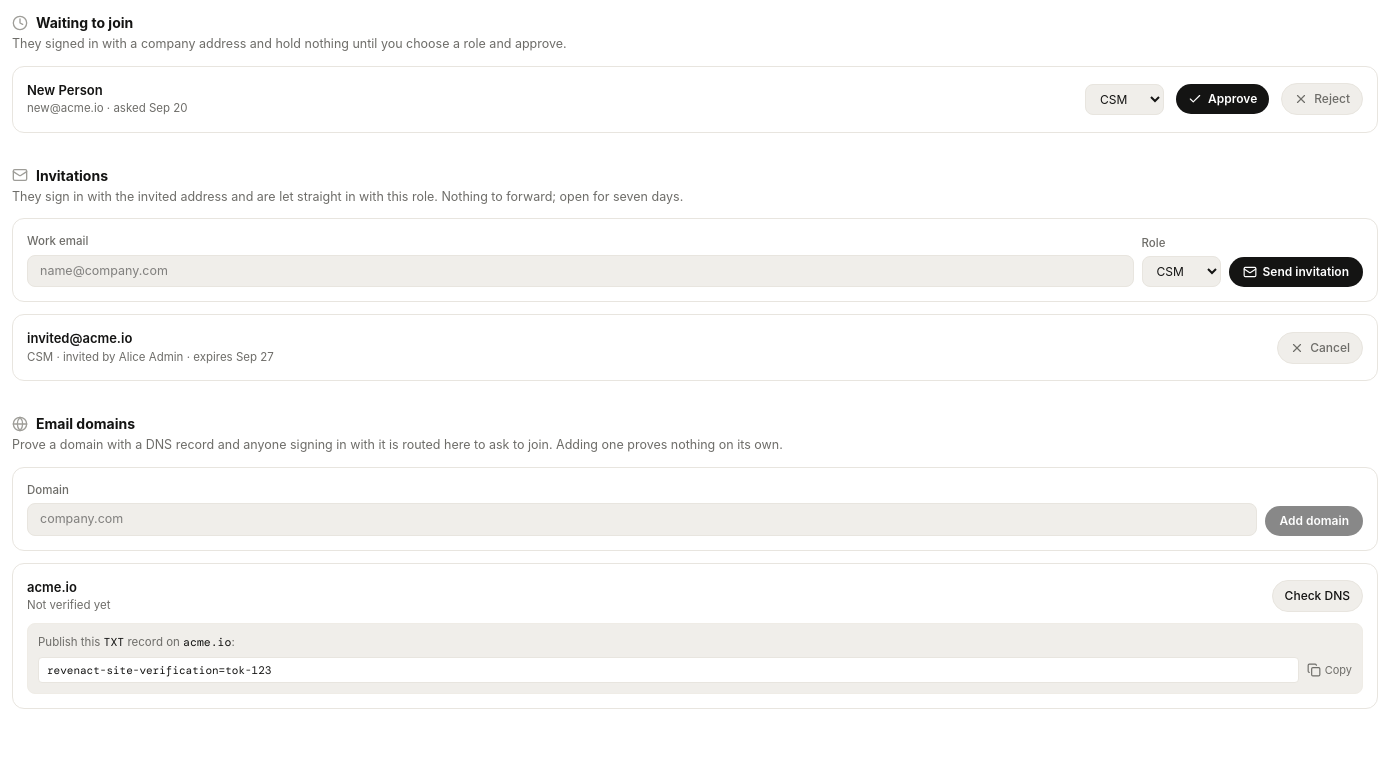
Access tab › cancels an invitation
expect the text "invited@acme.io" is shown: met, box x1=27 y1=330 x2=132 y2=346
Step 1. Click the button "Cancel" → (1320,348), box x1=1277 y1=332 x2=1363 y2=364
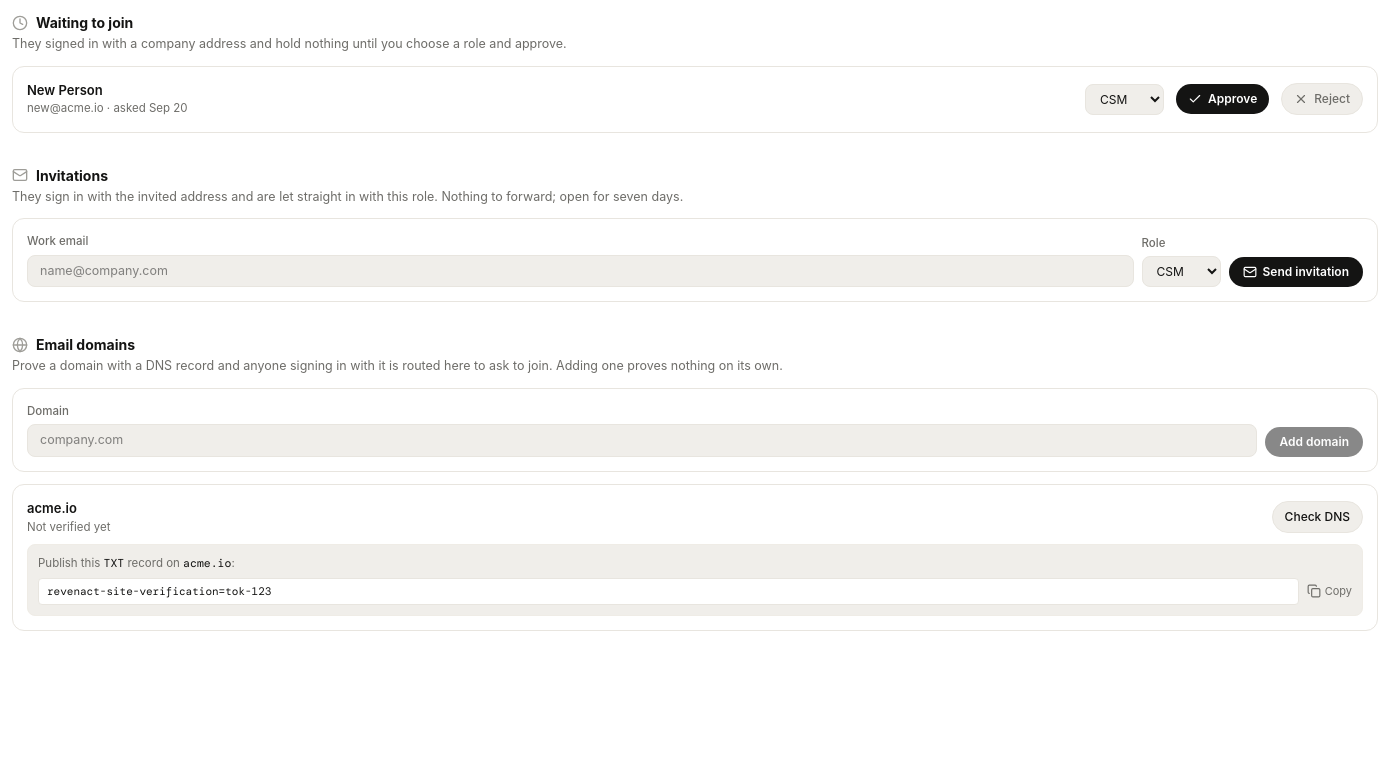
expect the text "invited@acme.io" is gone: met
